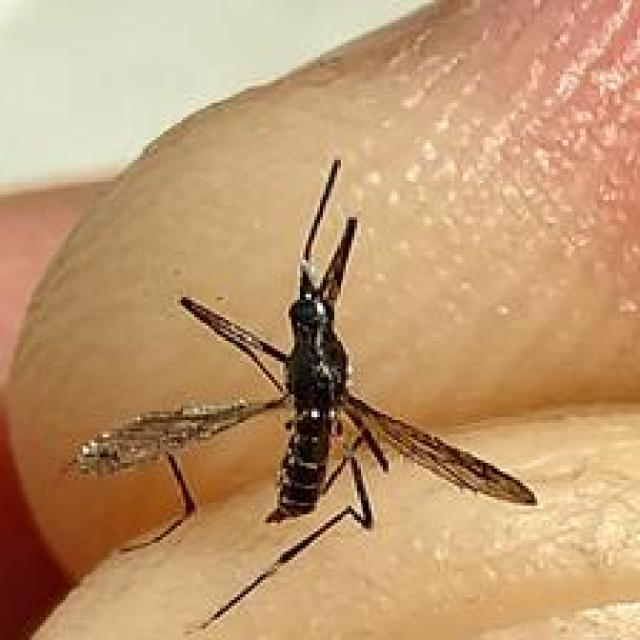Aedes albopictus: (66, 156, 540, 633)
